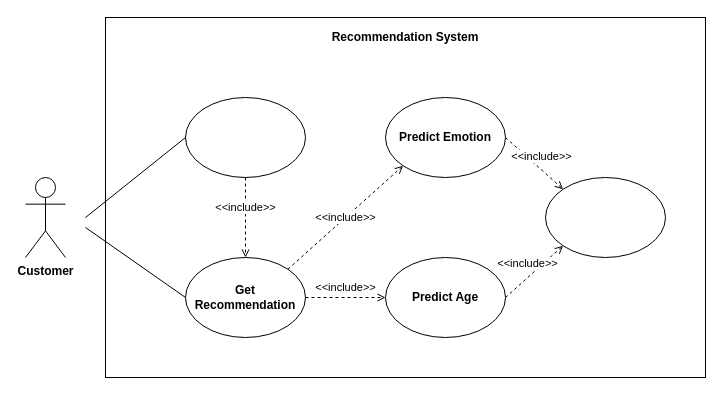
The diagram is 723 pixels wide and 395 high, and some of its shapes have lost their labels. Each missing label, with the centre of its shape:
"Have Age and/or Emotion predicted" goes at (245,137).
"Identify suitable Recommendation" goes at (605,217).
